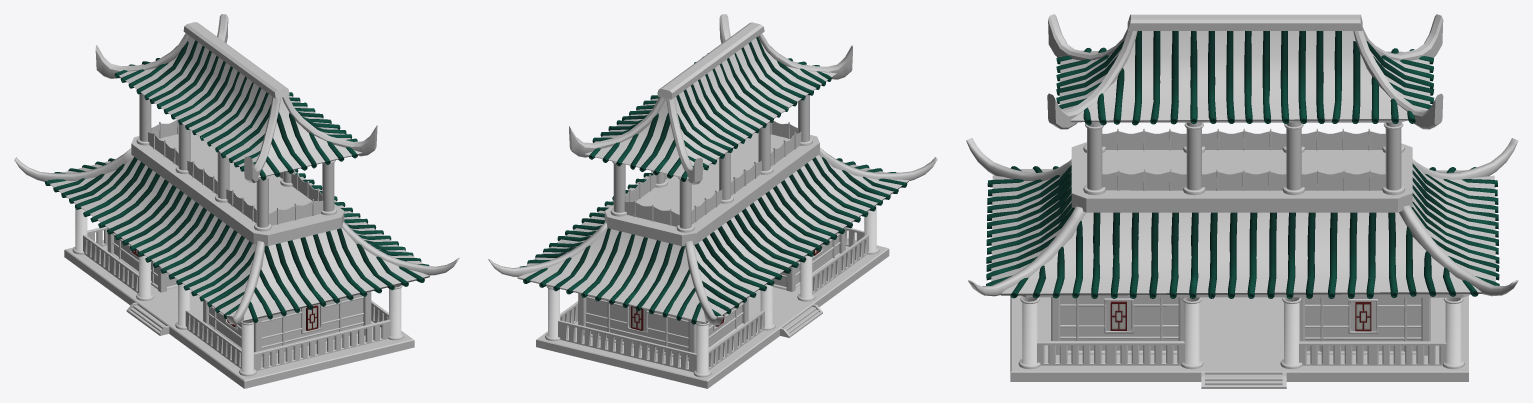
The model's file is Building10.fbx.
3 views of the same model, side by side, from view 1: azimuth 30°, elevation 25°; view 2: azimuth 150°, elevation 25°; view 3: azimuth 270°, elevation 25° (orthographic). The views are drawn at different scales.
Visible parts, largest first — view 1: Building10; view 2: Building10; view 3: Building10.
Boxes of the visible parts, left/top/right/bottom form: Building10: left=14, top=14, right=459, bottom=388; Building10: left=488, top=14, right=937, bottom=388; Building10: left=966, top=14, right=1518, bottom=388.
Bounding box in the file's own units: 1424 × 1425 × 2290.
